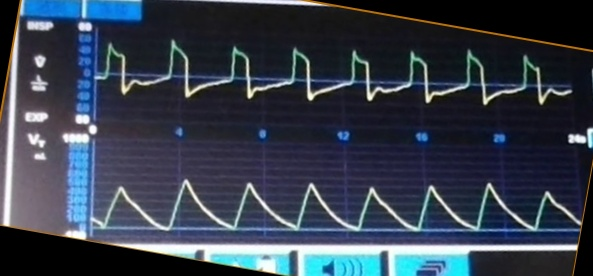Premature_cycling Flow: (100, 38, 571, 123)
Premature_cycling Volume: (94, 172, 579, 236)
